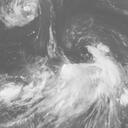cyclone: (57, 44, 120, 97)
